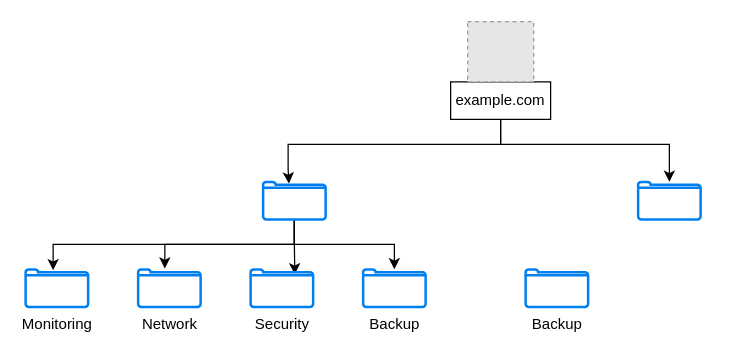
This 731x355 diagram has some shape labels left out. Grey dashed boxes stand in for pictures. Here are the shapes that lost their labels. From the top down, the centre of each, then its label:
At (293,200): "GCP Control Plane".
At (668,200): "Applications".
